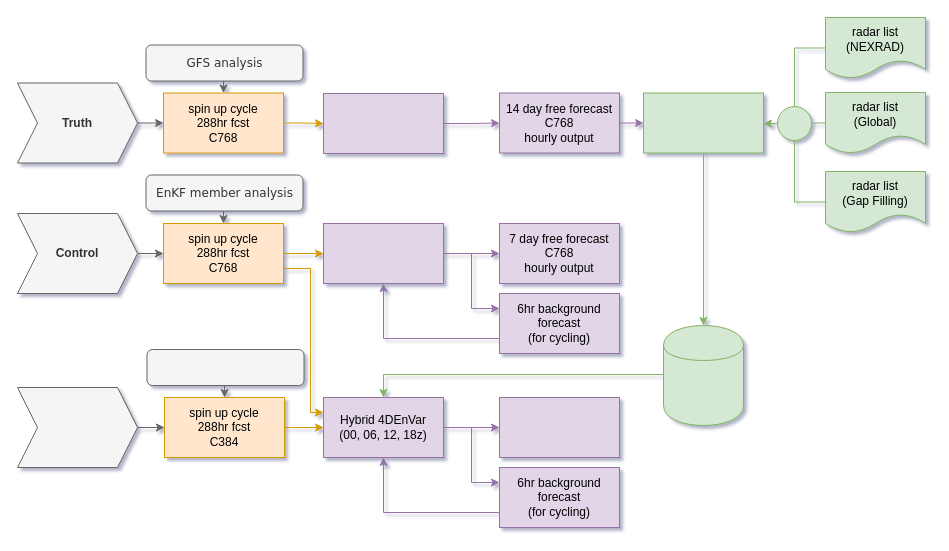
Some shapes in this 949 by 551 pixel diagram are drawn without their labels. Each missing label, with the centre of its shape:
7 day free forecast C768 & C384 hourly output: [559,427]
drwsim convert model out to observations + error: [703,122]
EnKF analyses: [225,367]
Experiments: [77,427]
or: [794,123]
simulated radial wind obs (bufr): [703,375]
warm start forecast: [383,123]
warm start forecast no data assimilation (00, 06, 12, 18z): [383,253]
